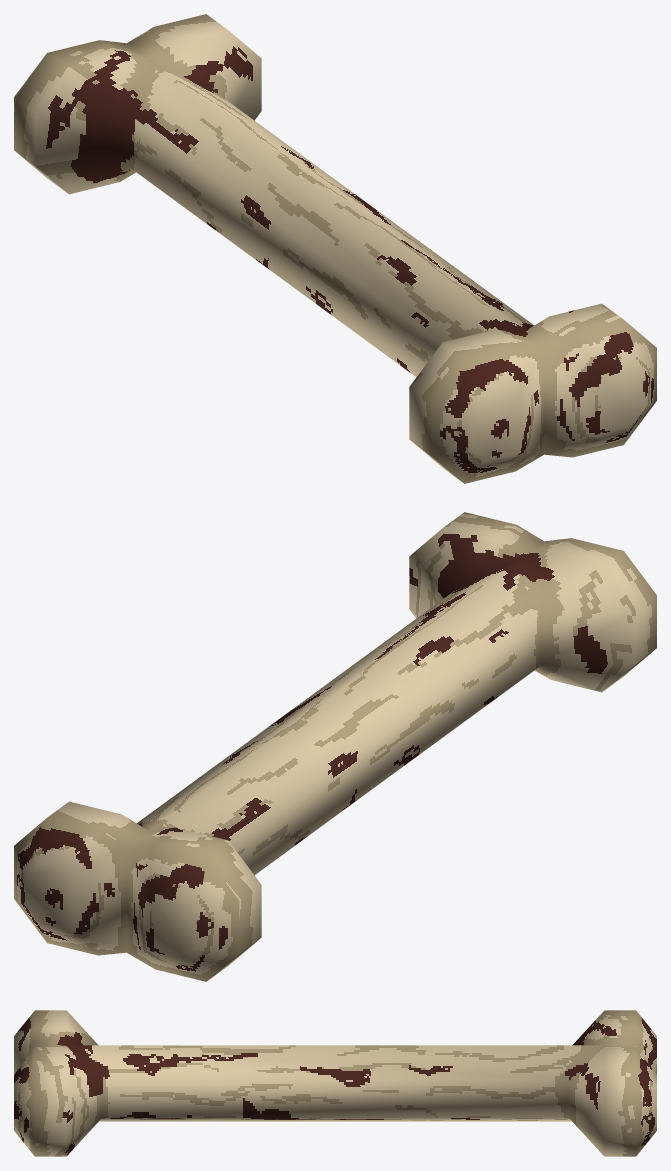
The model's file is bone.glb.
3 renders of one model, top to bottom at view 1: azimuth 30°, elevation 25°; view 2: azimuth 150°, elevation 25°; view 3: azimuth 270°, elevation 25°, orthographic. The views are drawn at different scales.
Visible parts, largest first — view 1: Cylinder; view 2: Cylinder; view 3: Cylinder.
Part boxes in pixels (x1=…): Cylinder: x1=14, y1=14, x2=656, y2=483; Cylinder: x1=14, y1=512, x2=656, y2=981; Cylinder: x1=14, y1=1010, x2=656, y2=1156.
Size of the model in its own units: 0.7312 by 0.3886 by 2.51.
Materials: 1 (1 with a texture image).
